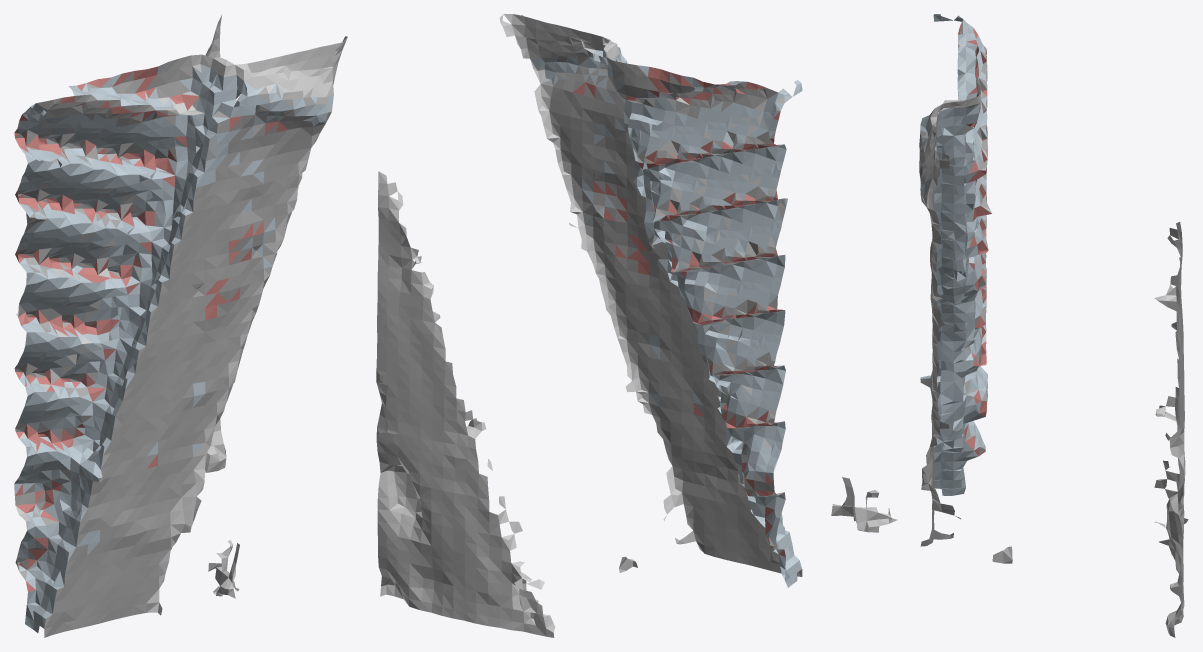
File: B173-뜬면-1__nojudge_ALS_s0__after.glb
The picture shows the model from 3 angles, left to right: view 1: azimuth 30°, elevation 25°; view 2: azimuth 150°, elevation 25°; view 3: azimuth 270°, elevation 25°; orthographic projection. The views are drawn at different scales.
Size of the model in its own units: 21.62 by 34.28 by 22.9.
